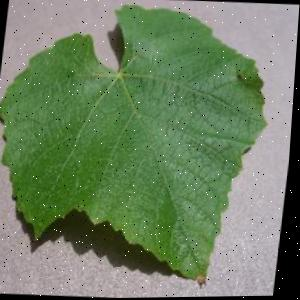Folha: (0, 0, 280, 294)
